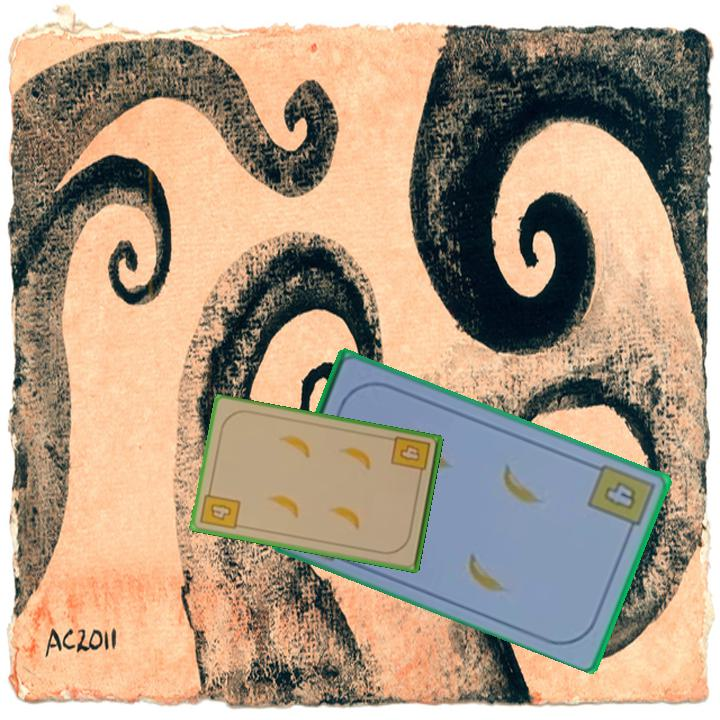4b: (584, 460, 658, 538), (388, 432, 433, 482), (197, 484, 243, 532)
